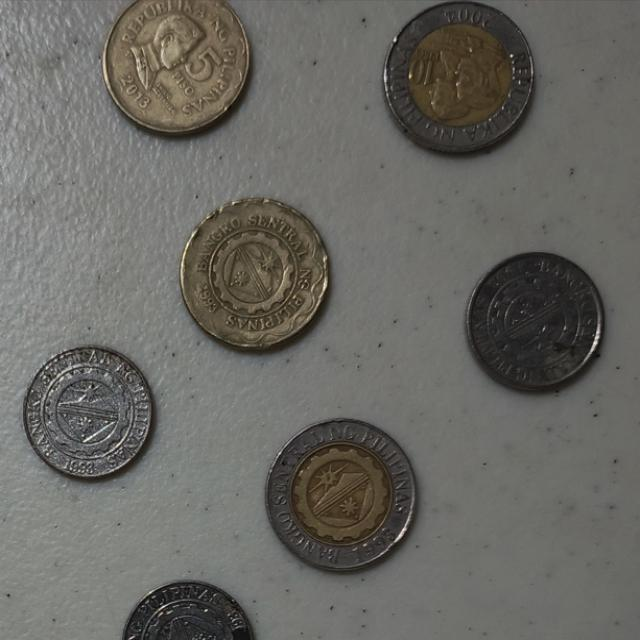10_peso: (266, 420, 414, 570), (384, 2, 532, 151)
1_peso: (467, 253, 602, 389), (24, 346, 151, 476)
5_peso: (181, 198, 328, 348), (103, 0, 248, 134)
